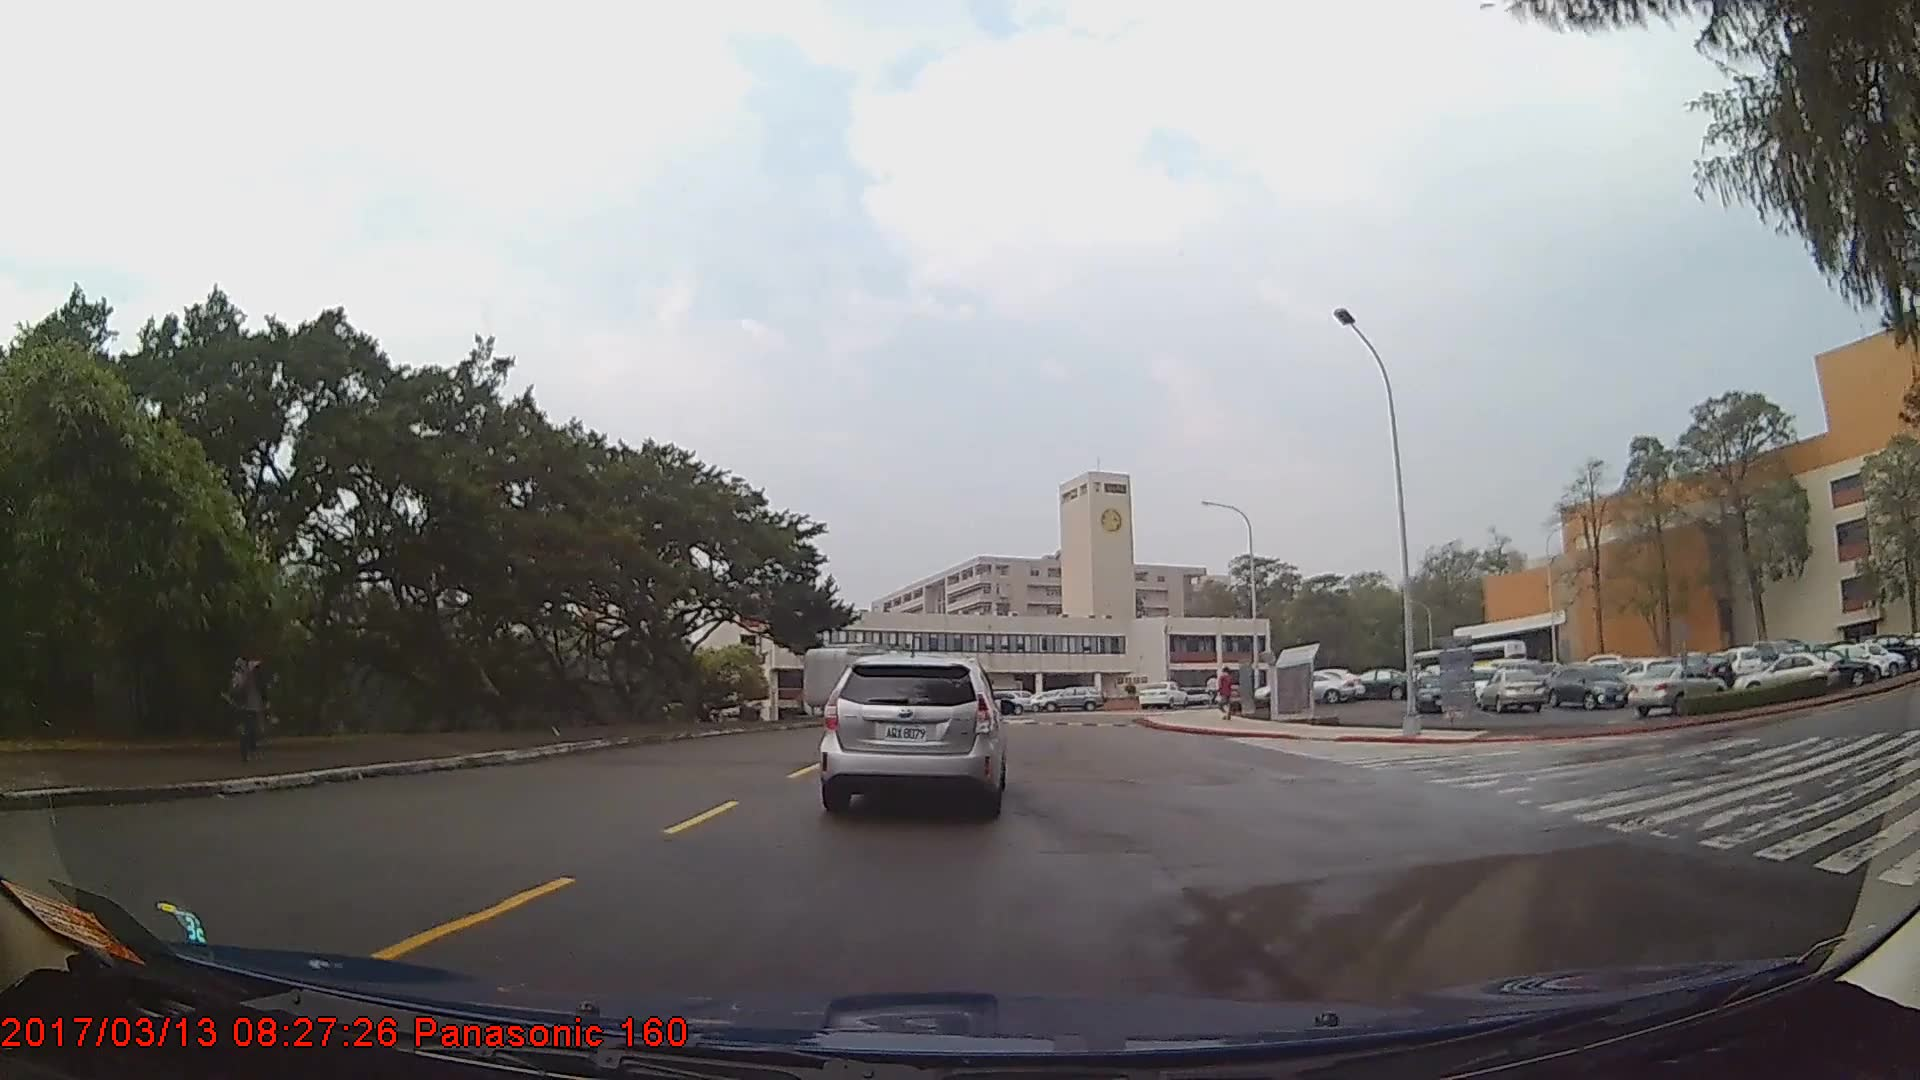pedestrian: (216, 645, 269, 766), (1216, 667, 1238, 723)
vehicle: (818, 652, 1002, 815), (1630, 661, 1726, 717), (1733, 648, 1836, 697), (1782, 643, 1877, 688), (1548, 660, 1632, 709), (1253, 670, 1355, 706), (1479, 666, 1546, 715), (1347, 666, 1413, 702), (1410, 673, 1459, 715), (1040, 684, 1108, 710), (1136, 680, 1187, 710), (976, 689, 1033, 714)
